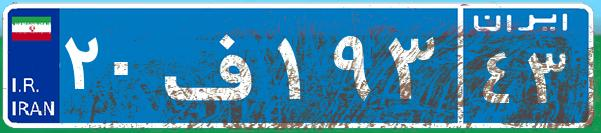0: (110, 28, 158, 105)
1: (273, 28, 330, 110)
2: (57, 26, 110, 107)
3: (385, 28, 445, 110), (525, 38, 570, 115)
4: (475, 38, 525, 113)
9: (330, 28, 385, 110)
ف: (158, 15, 273, 115)
